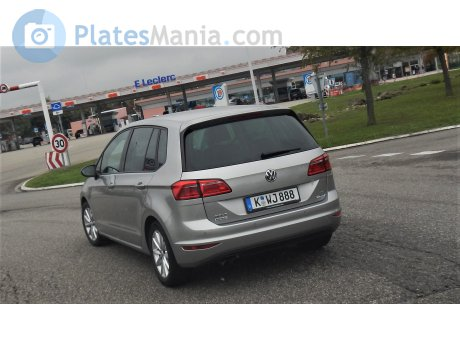License Plates: (256, 189, 297, 201)
